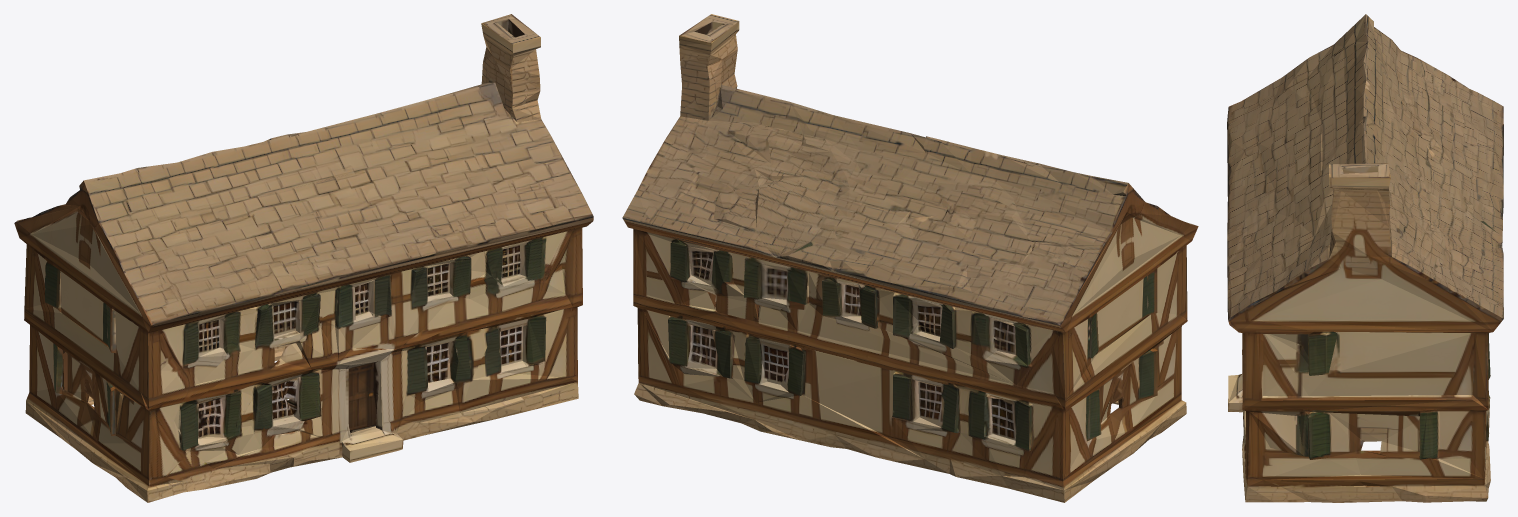
File: house.glb
3 renders of one model, left to right at view 1: azimuth 30°, elevation 25°; view 2: azimuth 150°, elevation 25°; view 3: azimuth 270°, elevation 25°, orthographic.
Visible parts, largest first — view 1: textured_mesh.obj; view 2: textured_mesh.obj; view 3: textured_mesh.obj.
Part boxes in pixels (x1=…): textured_mesh.obj: x1=14, y1=14, x2=593, y2=502; textured_mesh.obj: x1=622, y1=14, x2=1198, y2=502; textured_mesh.obj: x1=1227, y1=14, x2=1503, y2=502.
Size of the model in its own units: 1.97 by 1.41 by 1.07.
1 material, 1 textured.
